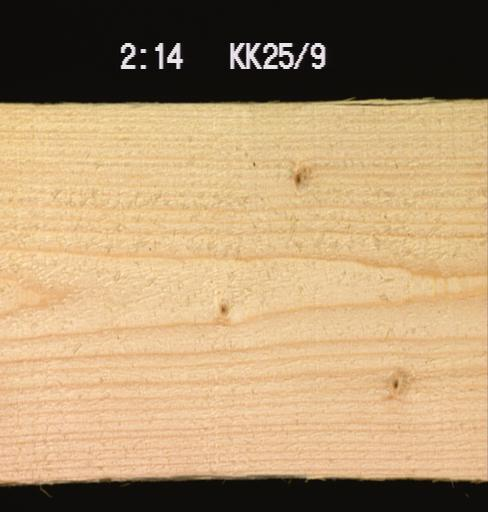small_knot: (382, 367, 407, 397), (288, 164, 309, 194), (212, 296, 232, 317)
